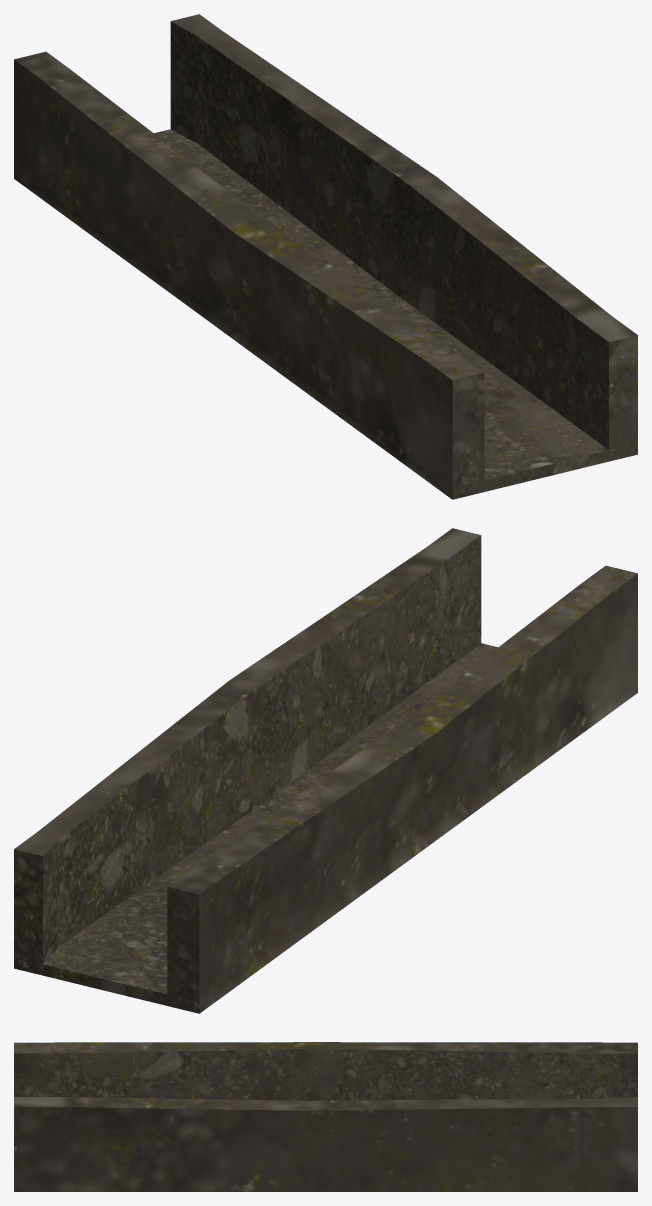
File: Straight2.fbx
3 renders of one model, top to bottom at view 1: azimuth 30°, elevation 25°; view 2: azimuth 150°, elevation 25°; view 3: azimuth 270°, elevation 25°, orthographic. The views are drawn at different scales.
Parts seen in each view (by area): view 1: detail; view 2: detail; view 3: detail.
Boxes of the visible parts, x1,y1,x2,y2 form: detail: (14, 14, 637, 499); detail: (14, 528, 637, 1013); detail: (14, 1042, 637, 1191).
Size of the model in its own units: 933 by 527 by 3450.
1 material, 1 textured.
